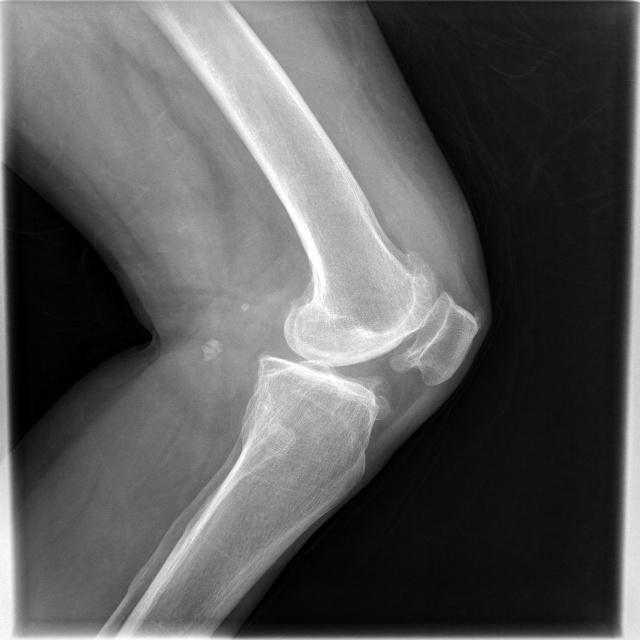Knee: (247, 271, 483, 442), (246, 439, 251, 447)
